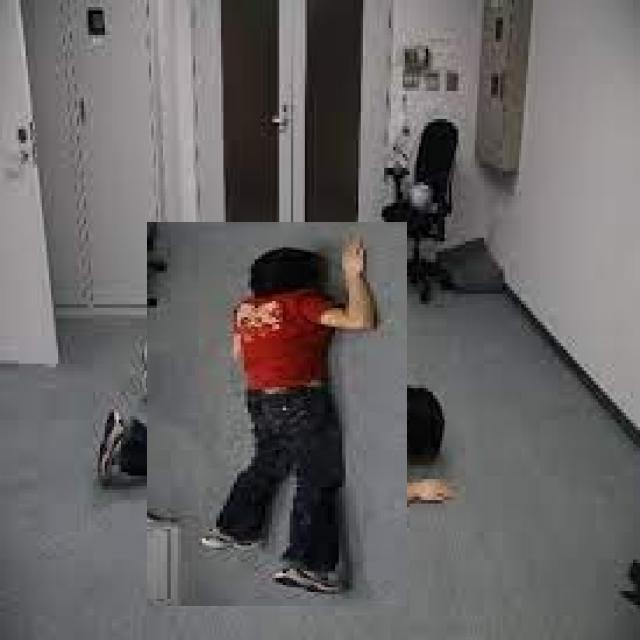Fall: (132, 229, 420, 614)
